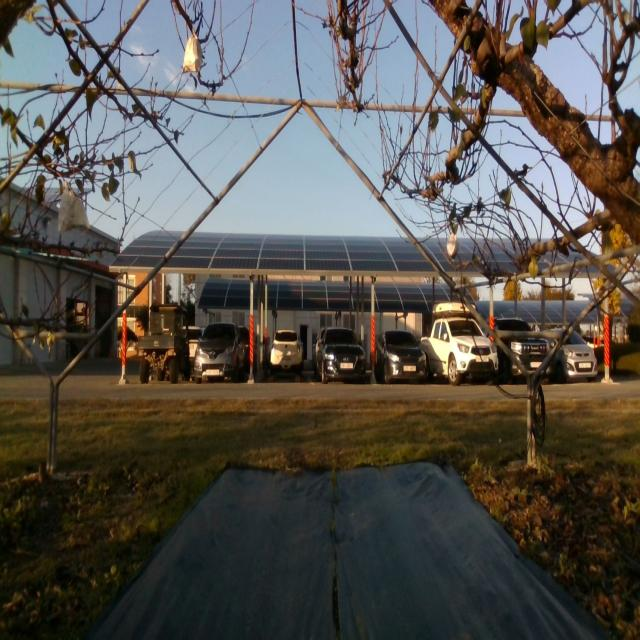pearbags: (58, 190, 90, 231), (182, 34, 202, 72), (446, 233, 458, 259)
